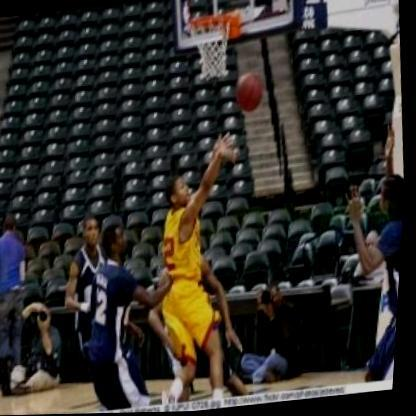basketball: (228, 64, 272, 120)
